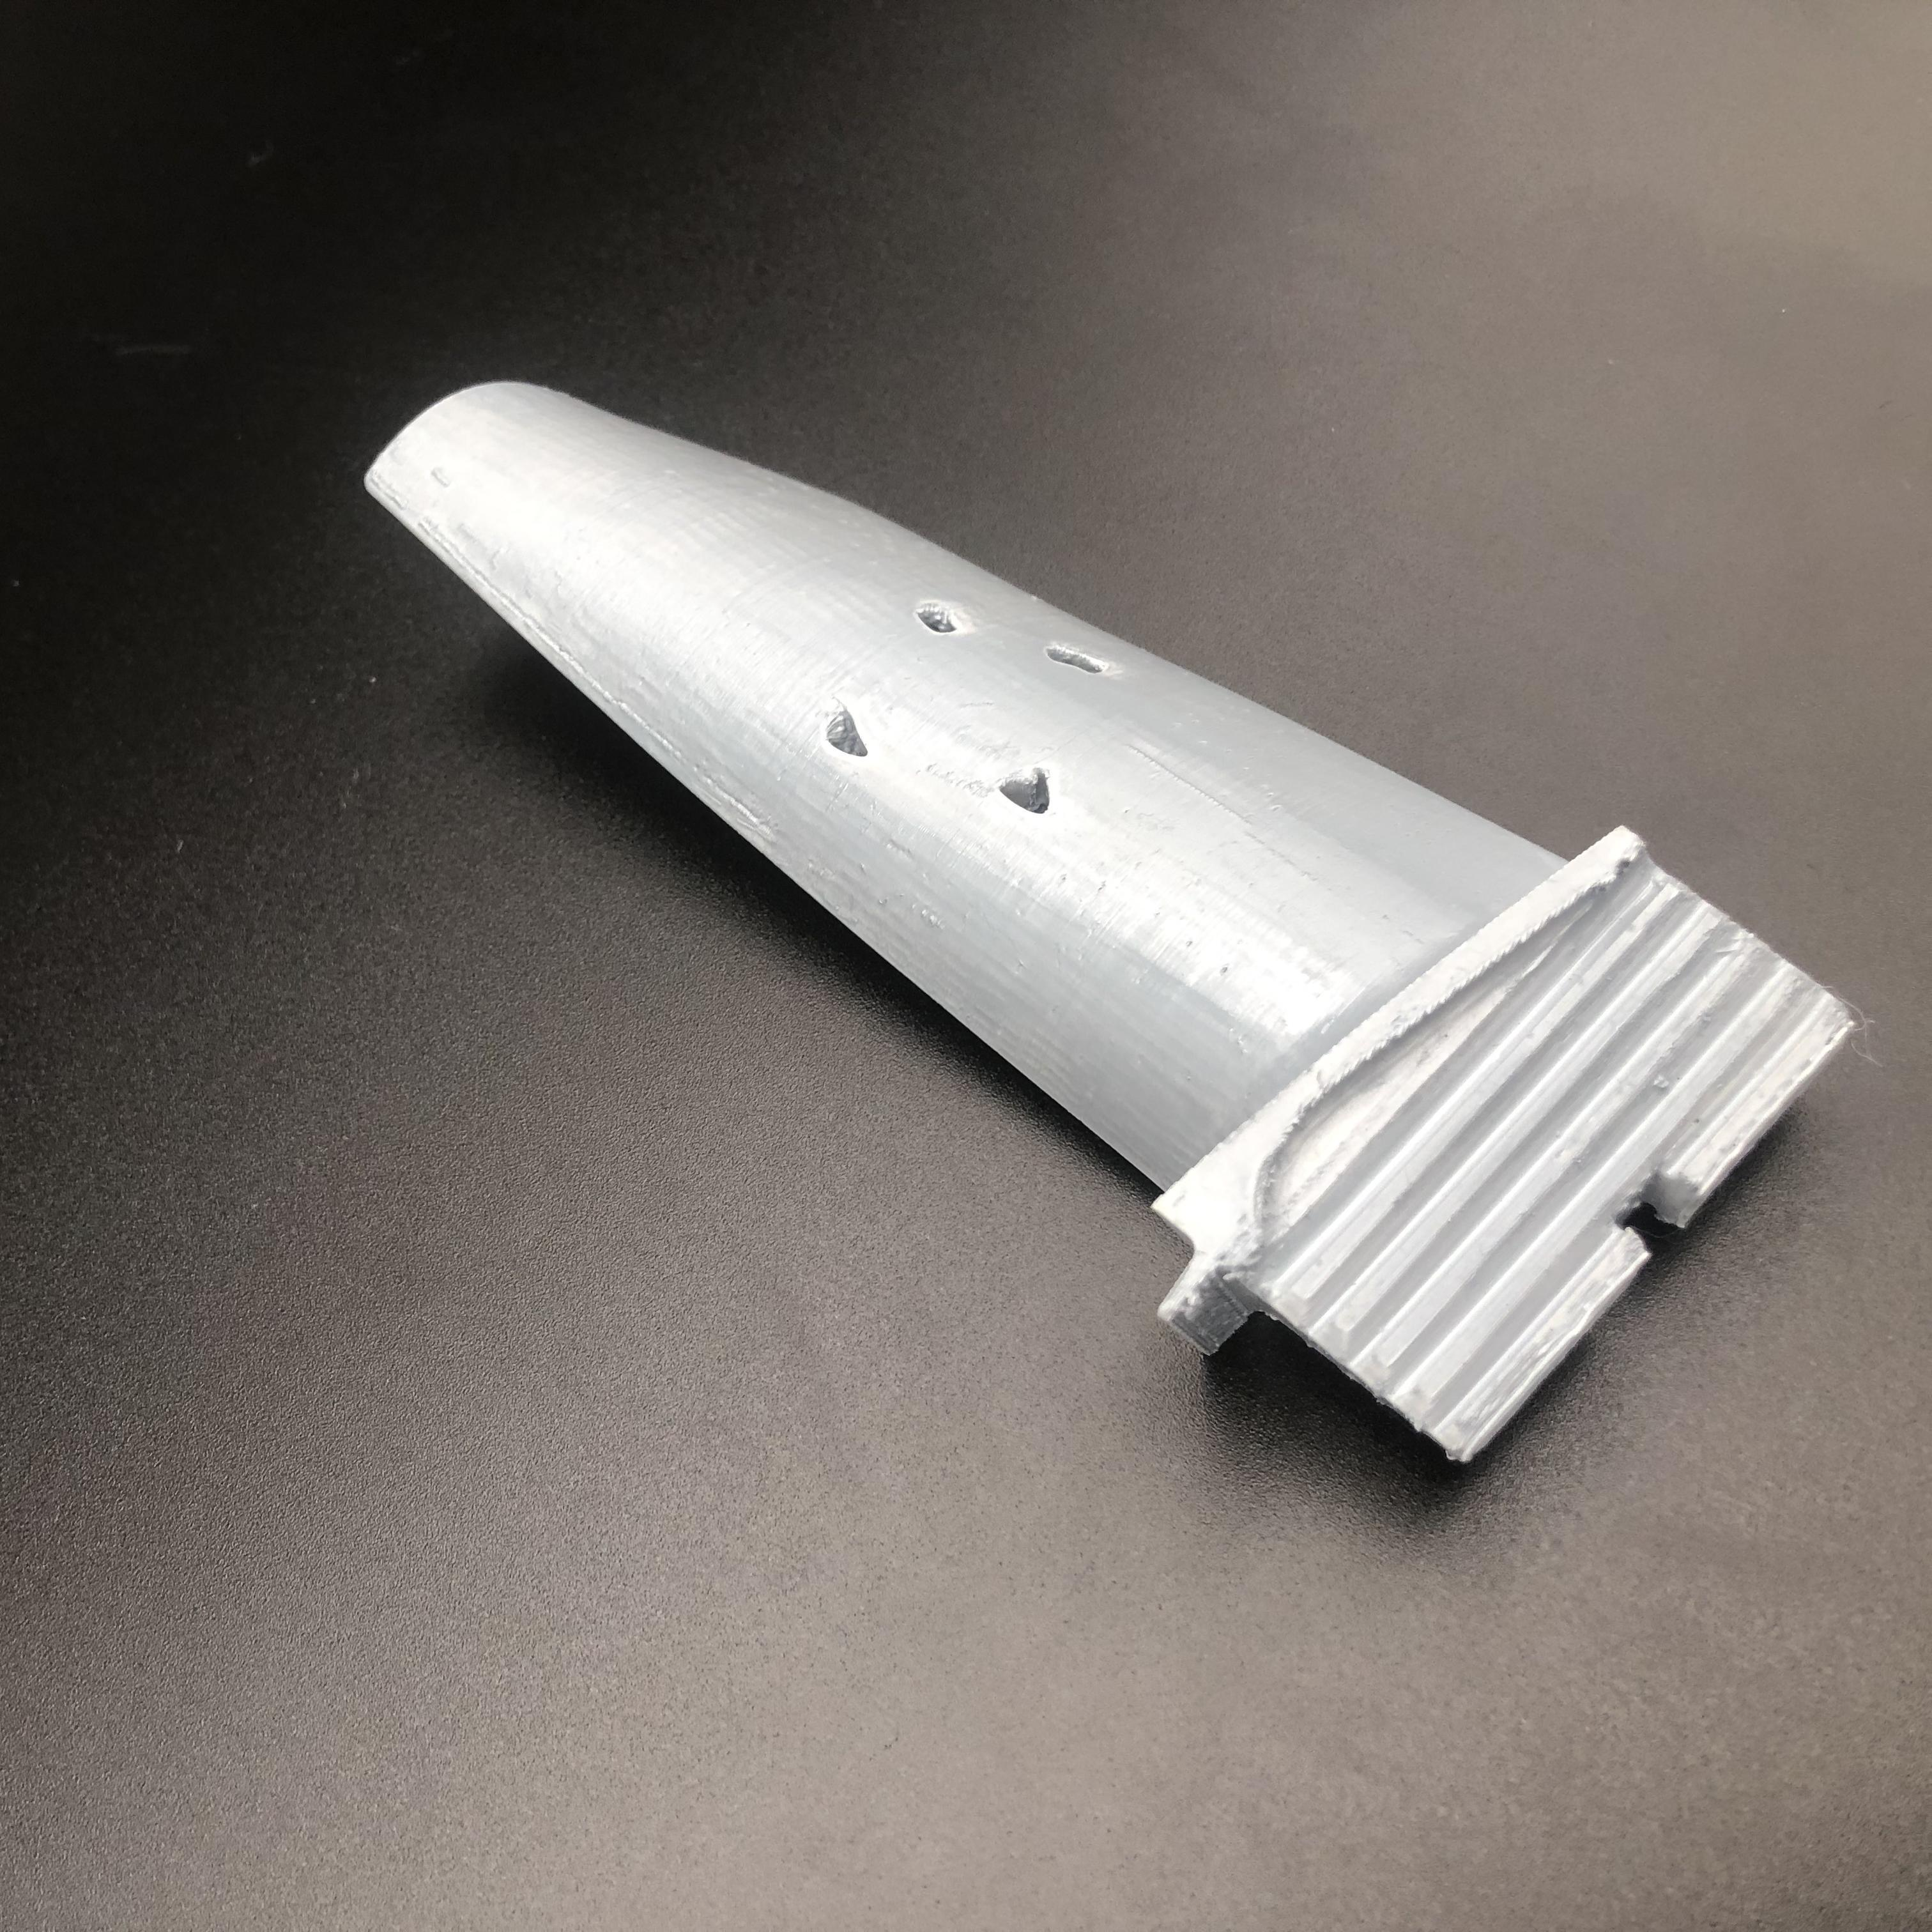breakdown: (830, 603, 1118, 824)
